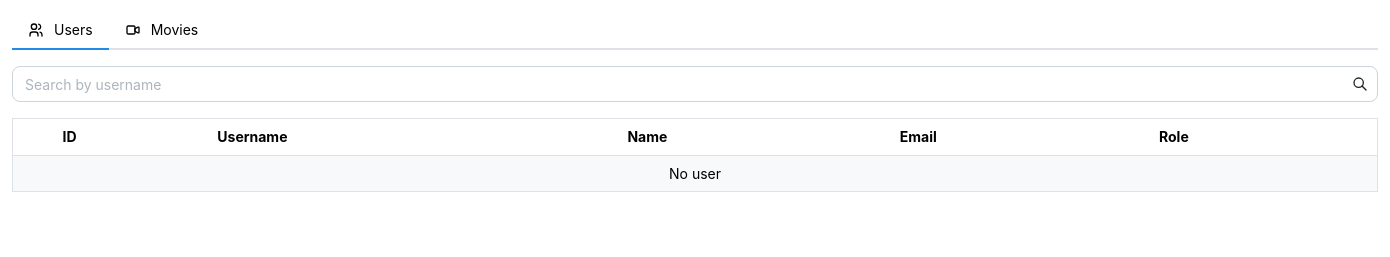
Test: AdminTab › switches to the Movies tab panel when Movies tab is clicked
Click the tab "Movies". click: (161, 31)
box: [109,12,214,50]
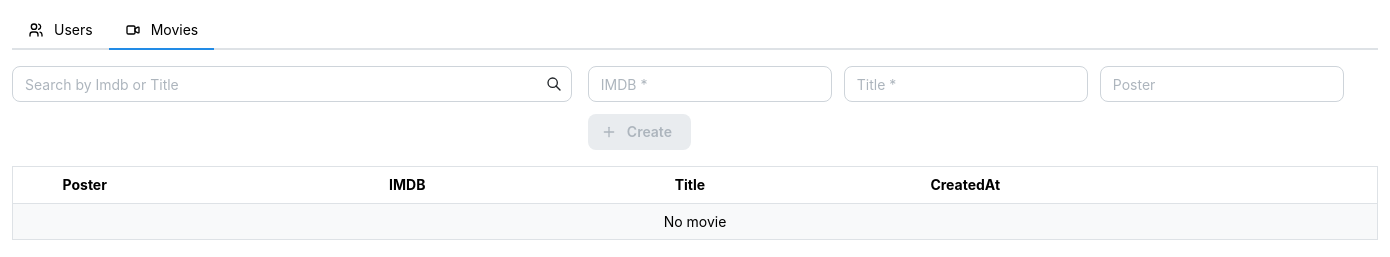
Result: the field with placeholder "Search by Imdb or Title" is shown at [12,66,572,102]
